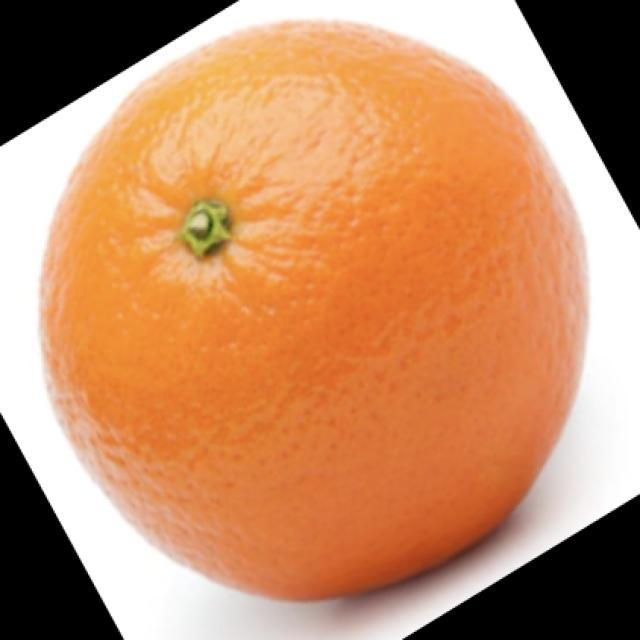Orange: (37, 17, 590, 602)
